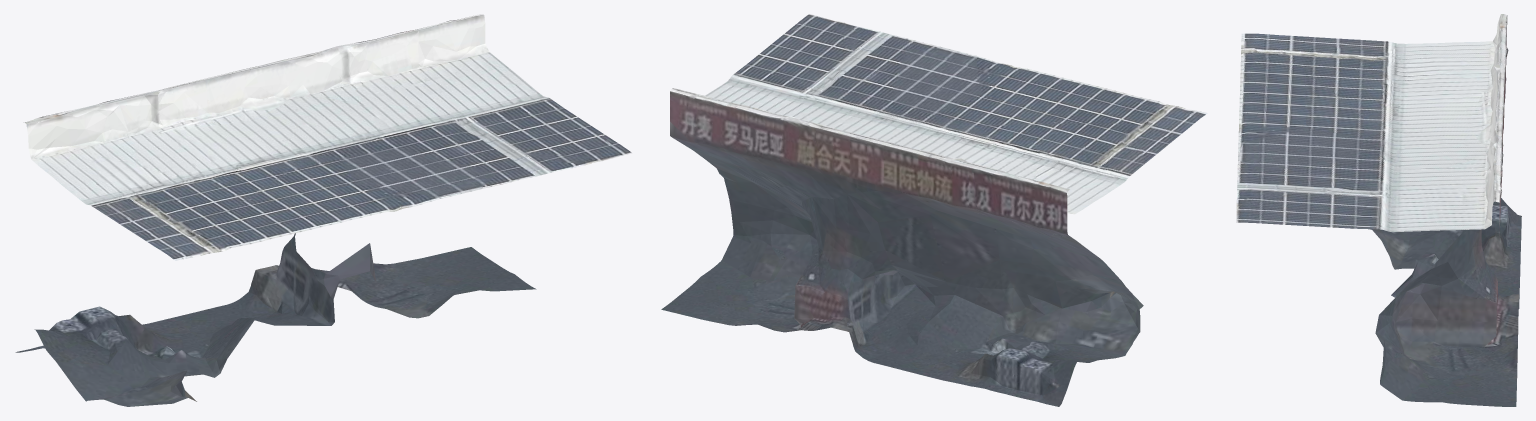
Rendered from Tile_+005_+010_L21_0uuuu221.glb.
3 views of the same model, side by side, from view 1: azimuth 30°, elevation 25°; view 2: azimuth 150°, elevation 25°; view 3: azimuth 270°, elevation 25° (orthographic). The views are drawn at different scales.
Visible parts, largest first — view 1: rtc; view 2: rtc; view 3: rtc.
Part boxes in pixels (left/top/right/bottom): rtc: left=15, top=14, right=632, bottom=406; rtc: left=661, top=14, right=1207, bottom=406; rtc: left=1236, top=14, right=1521, bottom=406.
Size of the model in its own units: 21.84 by 11.13 by 13.88.
Materials: 1 (1 with a texture image).
